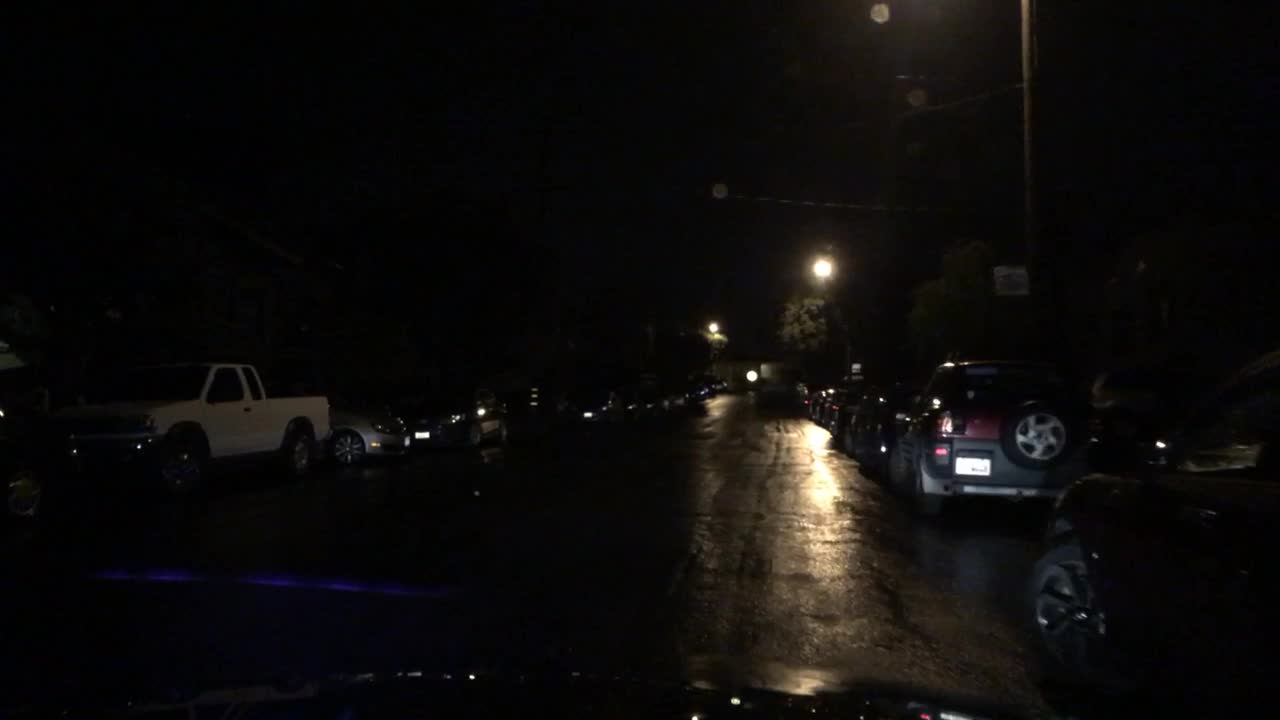car: (1025, 342, 1278, 718), (888, 355, 1085, 524), (0, 341, 57, 523), (857, 379, 926, 473), (327, 396, 410, 462), (838, 386, 889, 457), (411, 402, 469, 451), (828, 386, 866, 446), (562, 388, 620, 419), (753, 381, 799, 415), (816, 386, 845, 423), (657, 382, 690, 410), (625, 390, 655, 411), (805, 388, 824, 414), (690, 379, 712, 400), (707, 373, 730, 391)
person: (1079, 365, 1134, 471), (465, 386, 515, 488)
traffic sign: (992, 263, 1033, 297)
truck: (52, 359, 337, 493)
